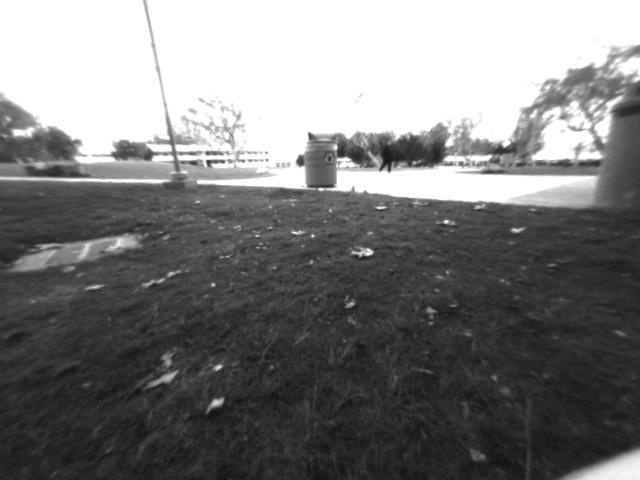trashcan: (301, 120, 345, 198)
